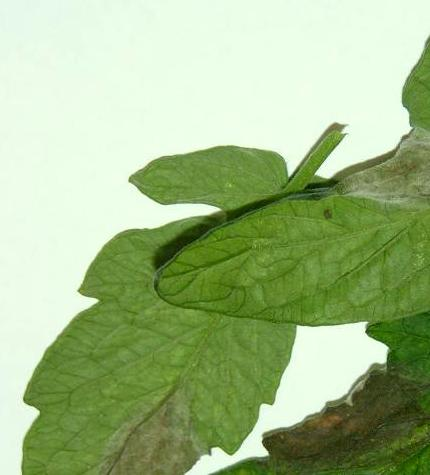Tomato leaf late blight: (0, 153, 335, 475), (159, 7, 430, 336), (140, 305, 430, 475)
